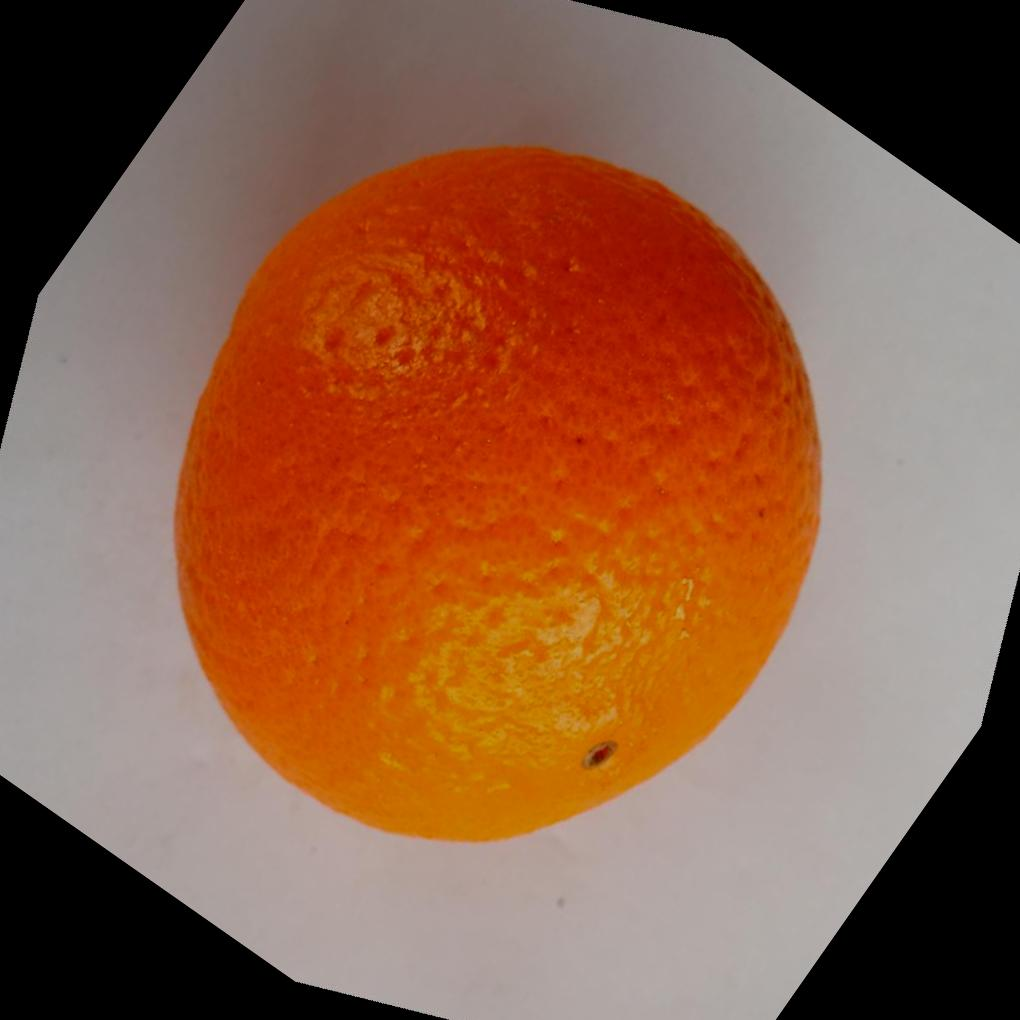FreshGuava: (168, 143, 824, 848)
